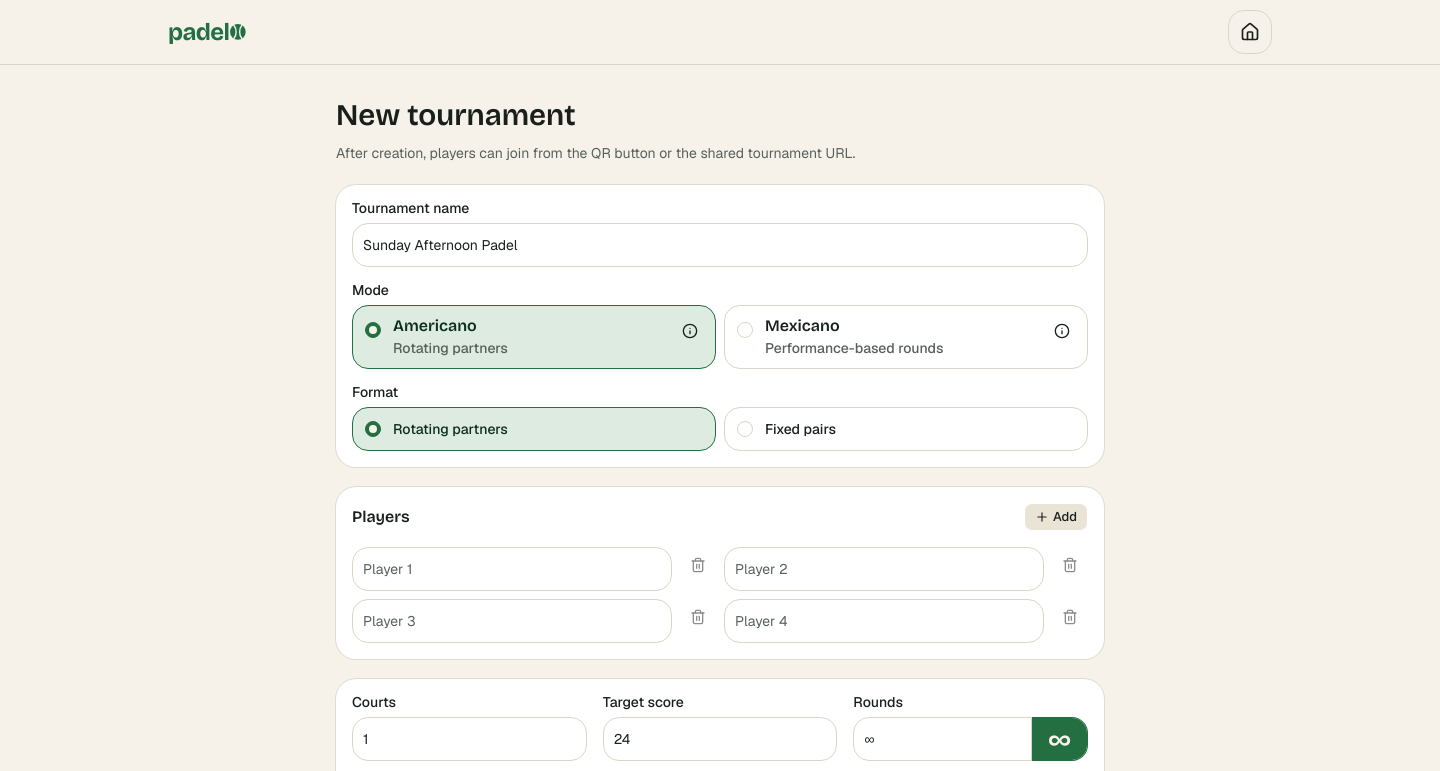
Test: NewTournamentPage › blocks court counts above complete groups of four players
Type "Alex" into the field with placeholder "Player 1" at {"x": 512, "y": 569}, box [352,547,672,591]
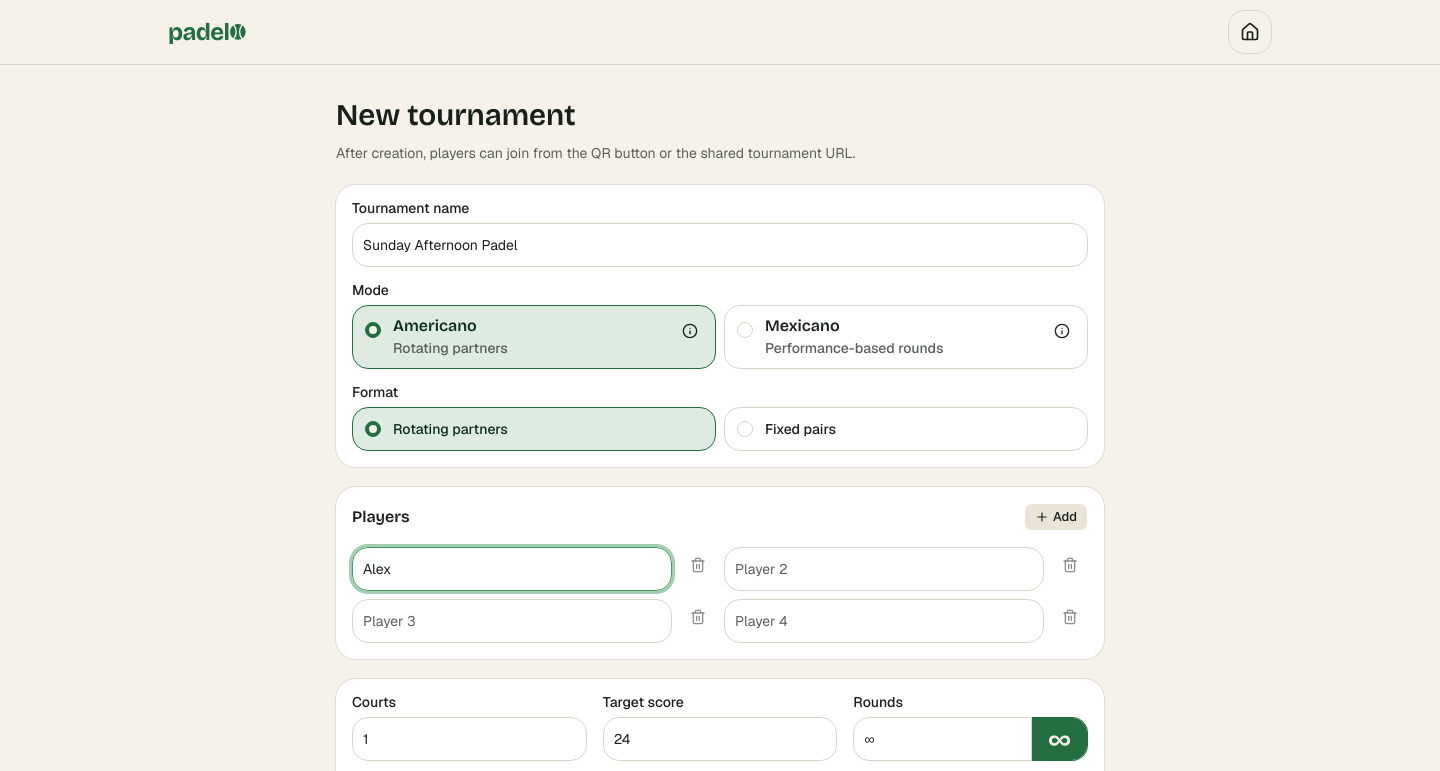
Type "Bianca" into the field with placeholder "Player 2" at {"x": 884, "y": 569}, box [724,547,1044,591]
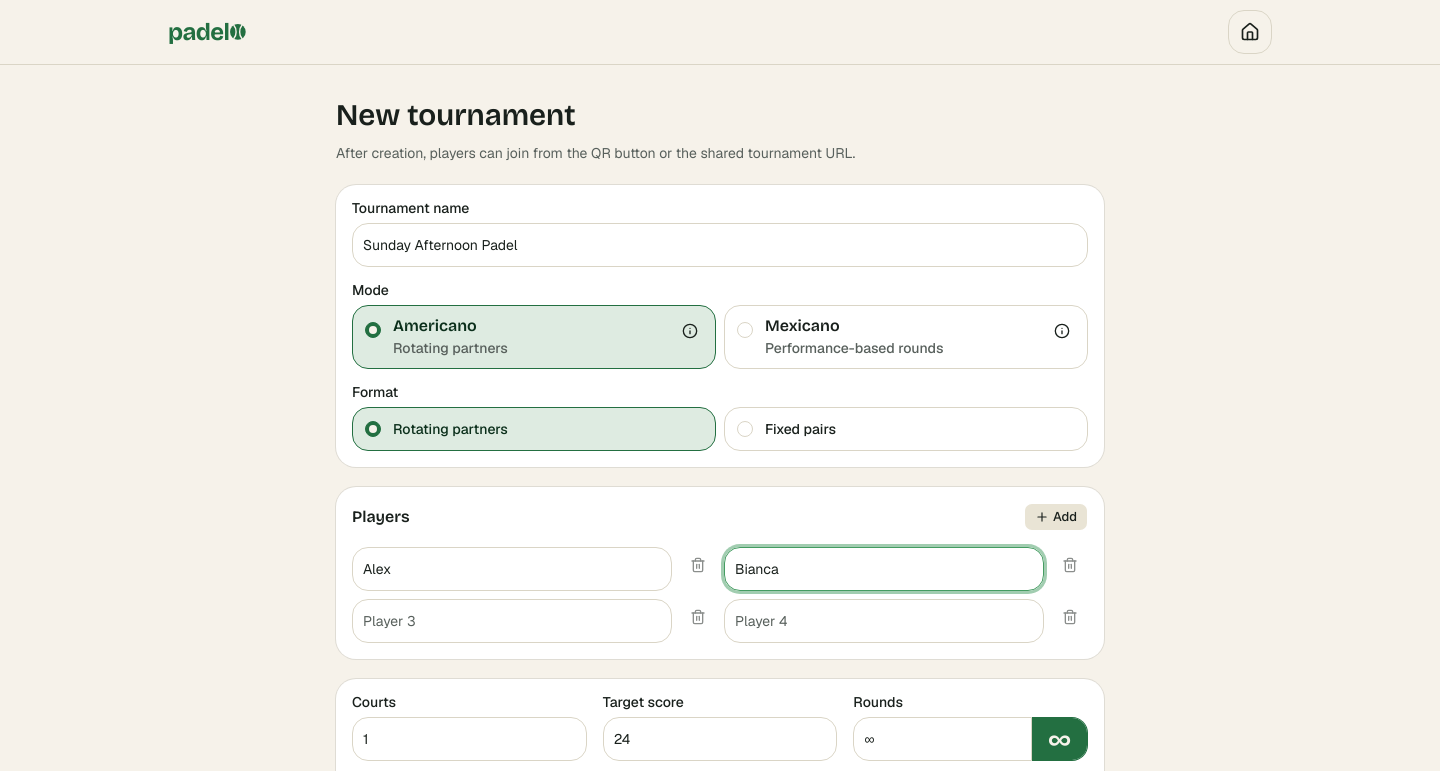
Type "Chris" into the field with placeholder "Player 3" at {"x": 512, "y": 621}, box [352,599,672,643]
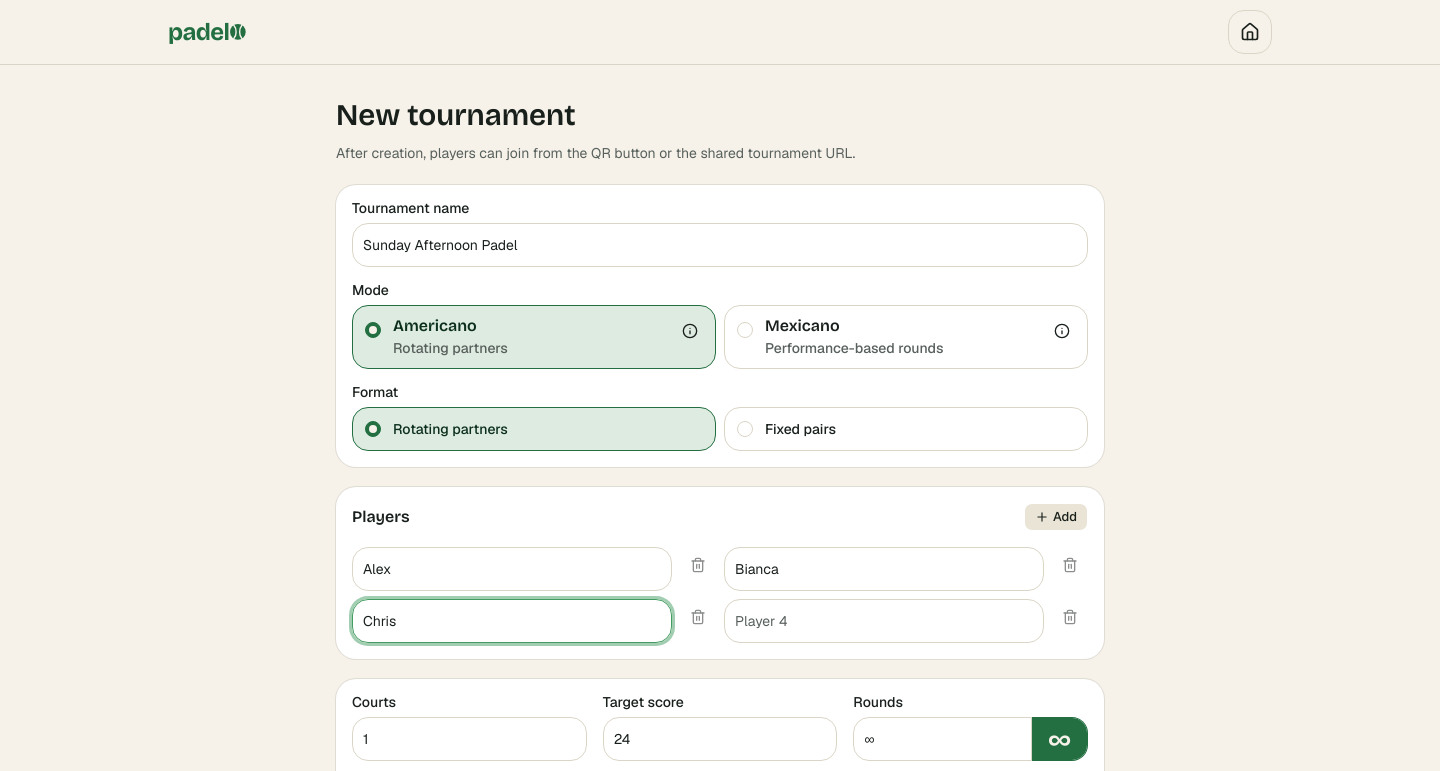
Type "Dana" into the field with placeholder "Player 4" at {"x": 884, "y": 621}, box [724,599,1044,643]
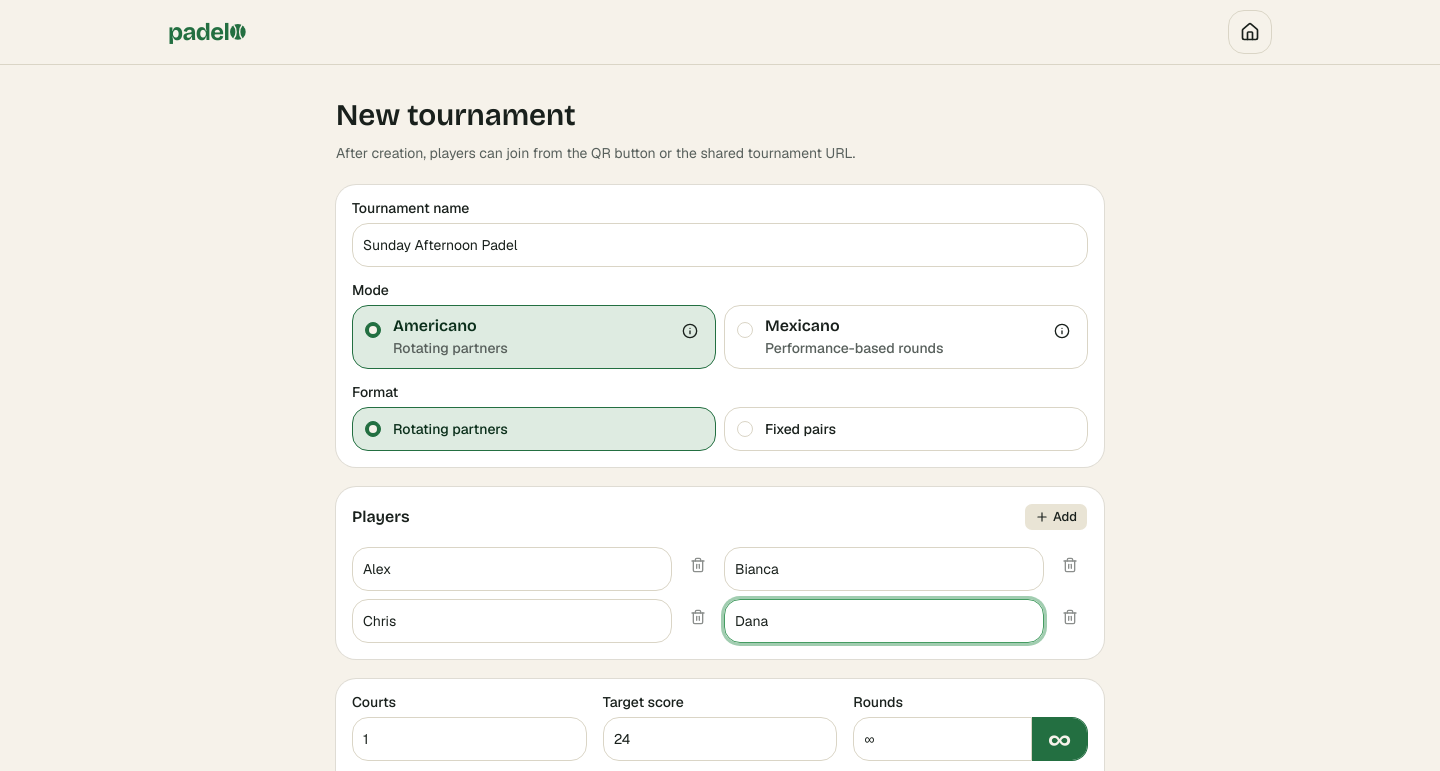
Replace the text in the number field labelled "Courts" with "2" at {"x": 469, "y": 739}, box [352,717,587,761]
(page scrolled)
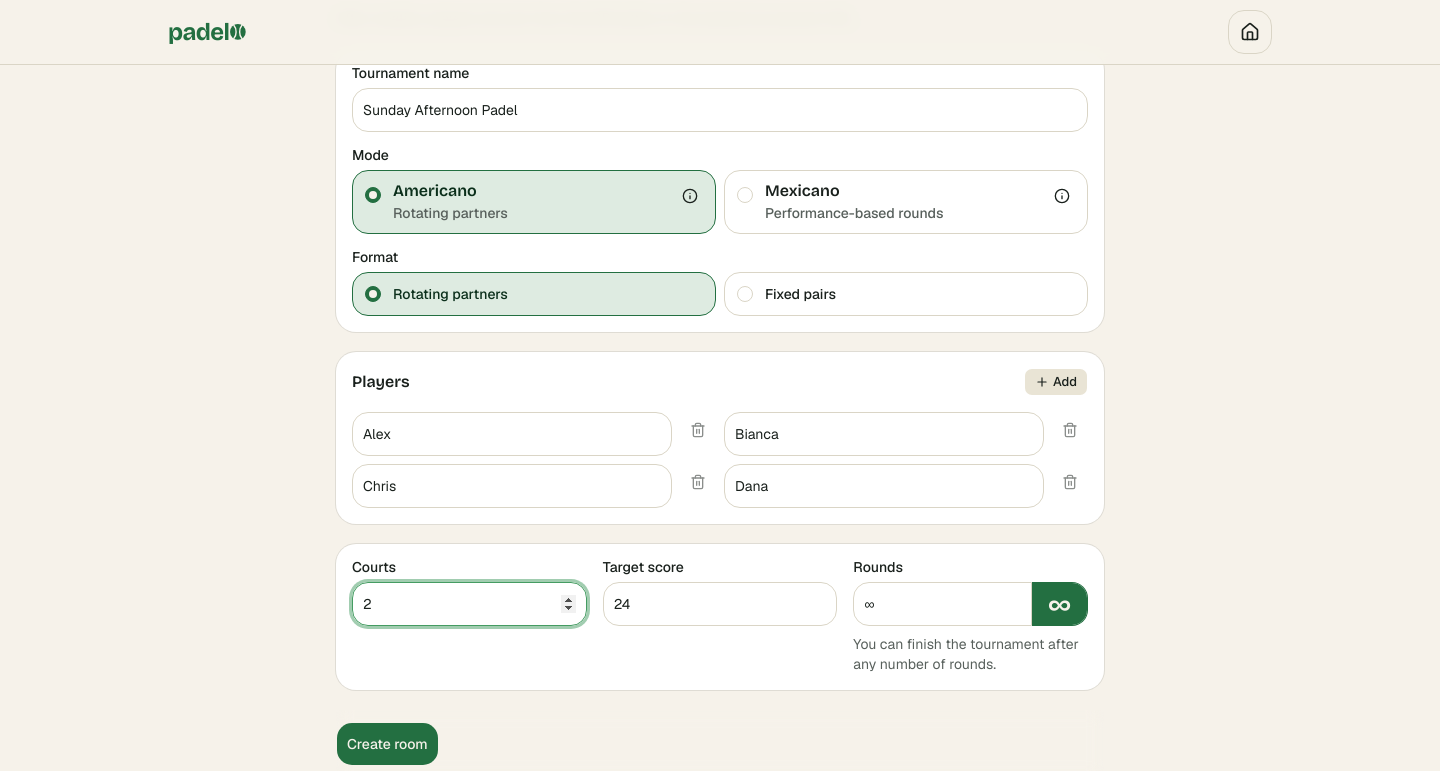
Click the button "Create room" at {"x": 387, "y": 744}, box [336,722,439,766]
(page scrolled)
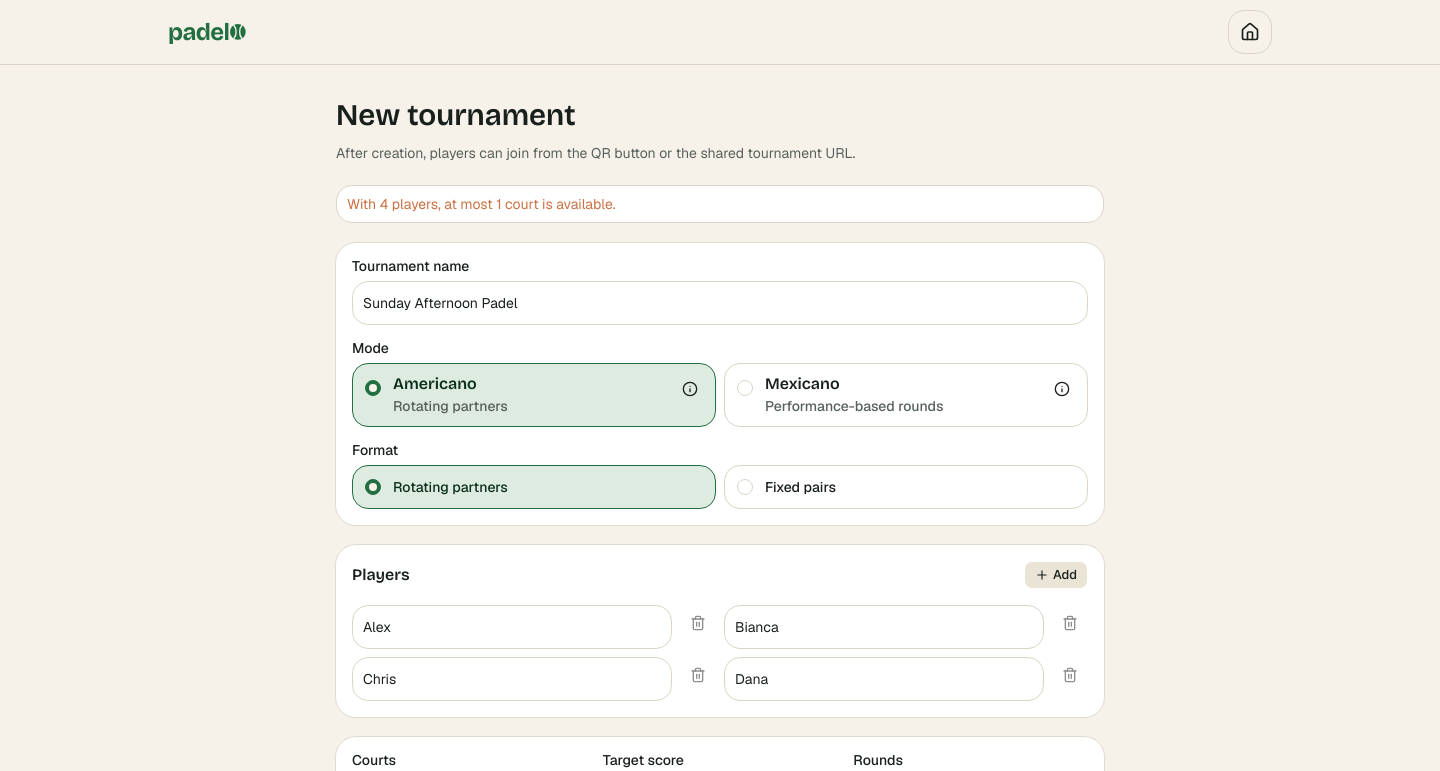
Check: the text "With 4 players, at most 1 court is available." is shown, box [347,195,616,213]
